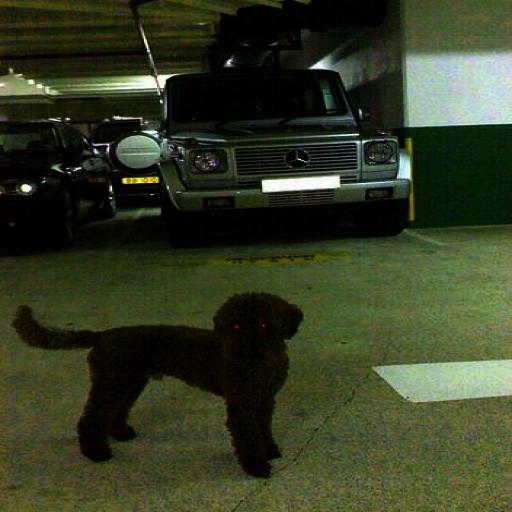dog_face: (216, 294, 308, 361)
